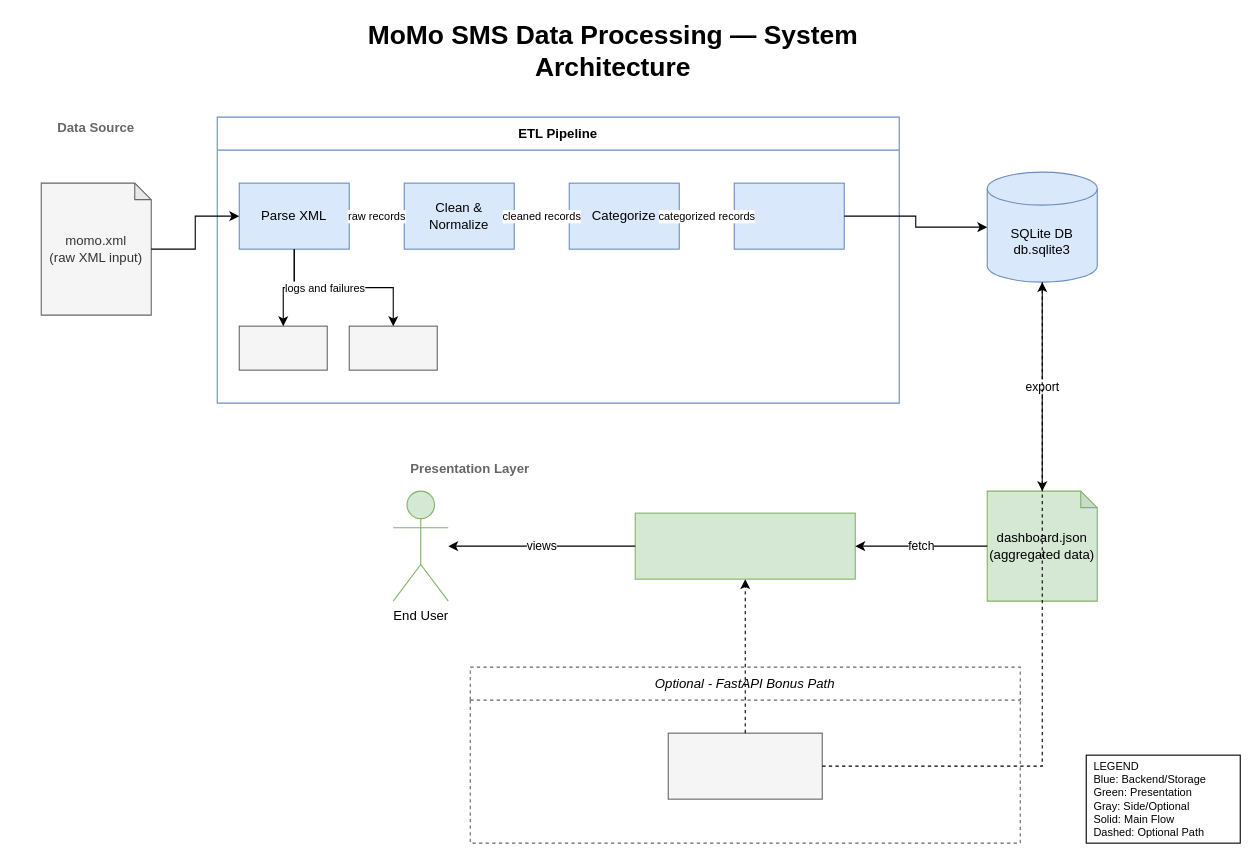
The diagram is 1260 pixels wide and 862 high, and some of its shapes have lost their labels. Each missing label, with the box of its shape:
dead_letter/: (348, 325, 437, 370)
etl.log: (238, 325, 327, 370)
FastAPI Service /transactions /analytics: (667, 732, 822, 799)
Frontend Dashboard index.html + chart_handler.js + styles.css: (634, 512, 855, 579)
Load to DB: (733, 182, 844, 249)
